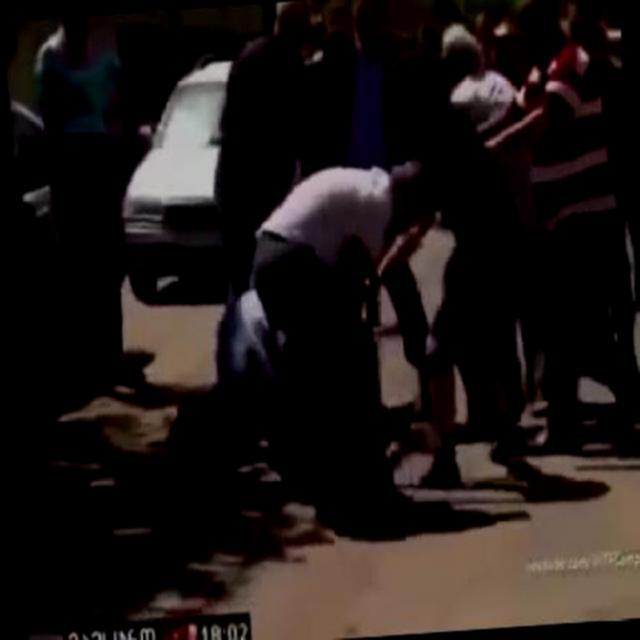fight: (189, 153, 445, 533)
